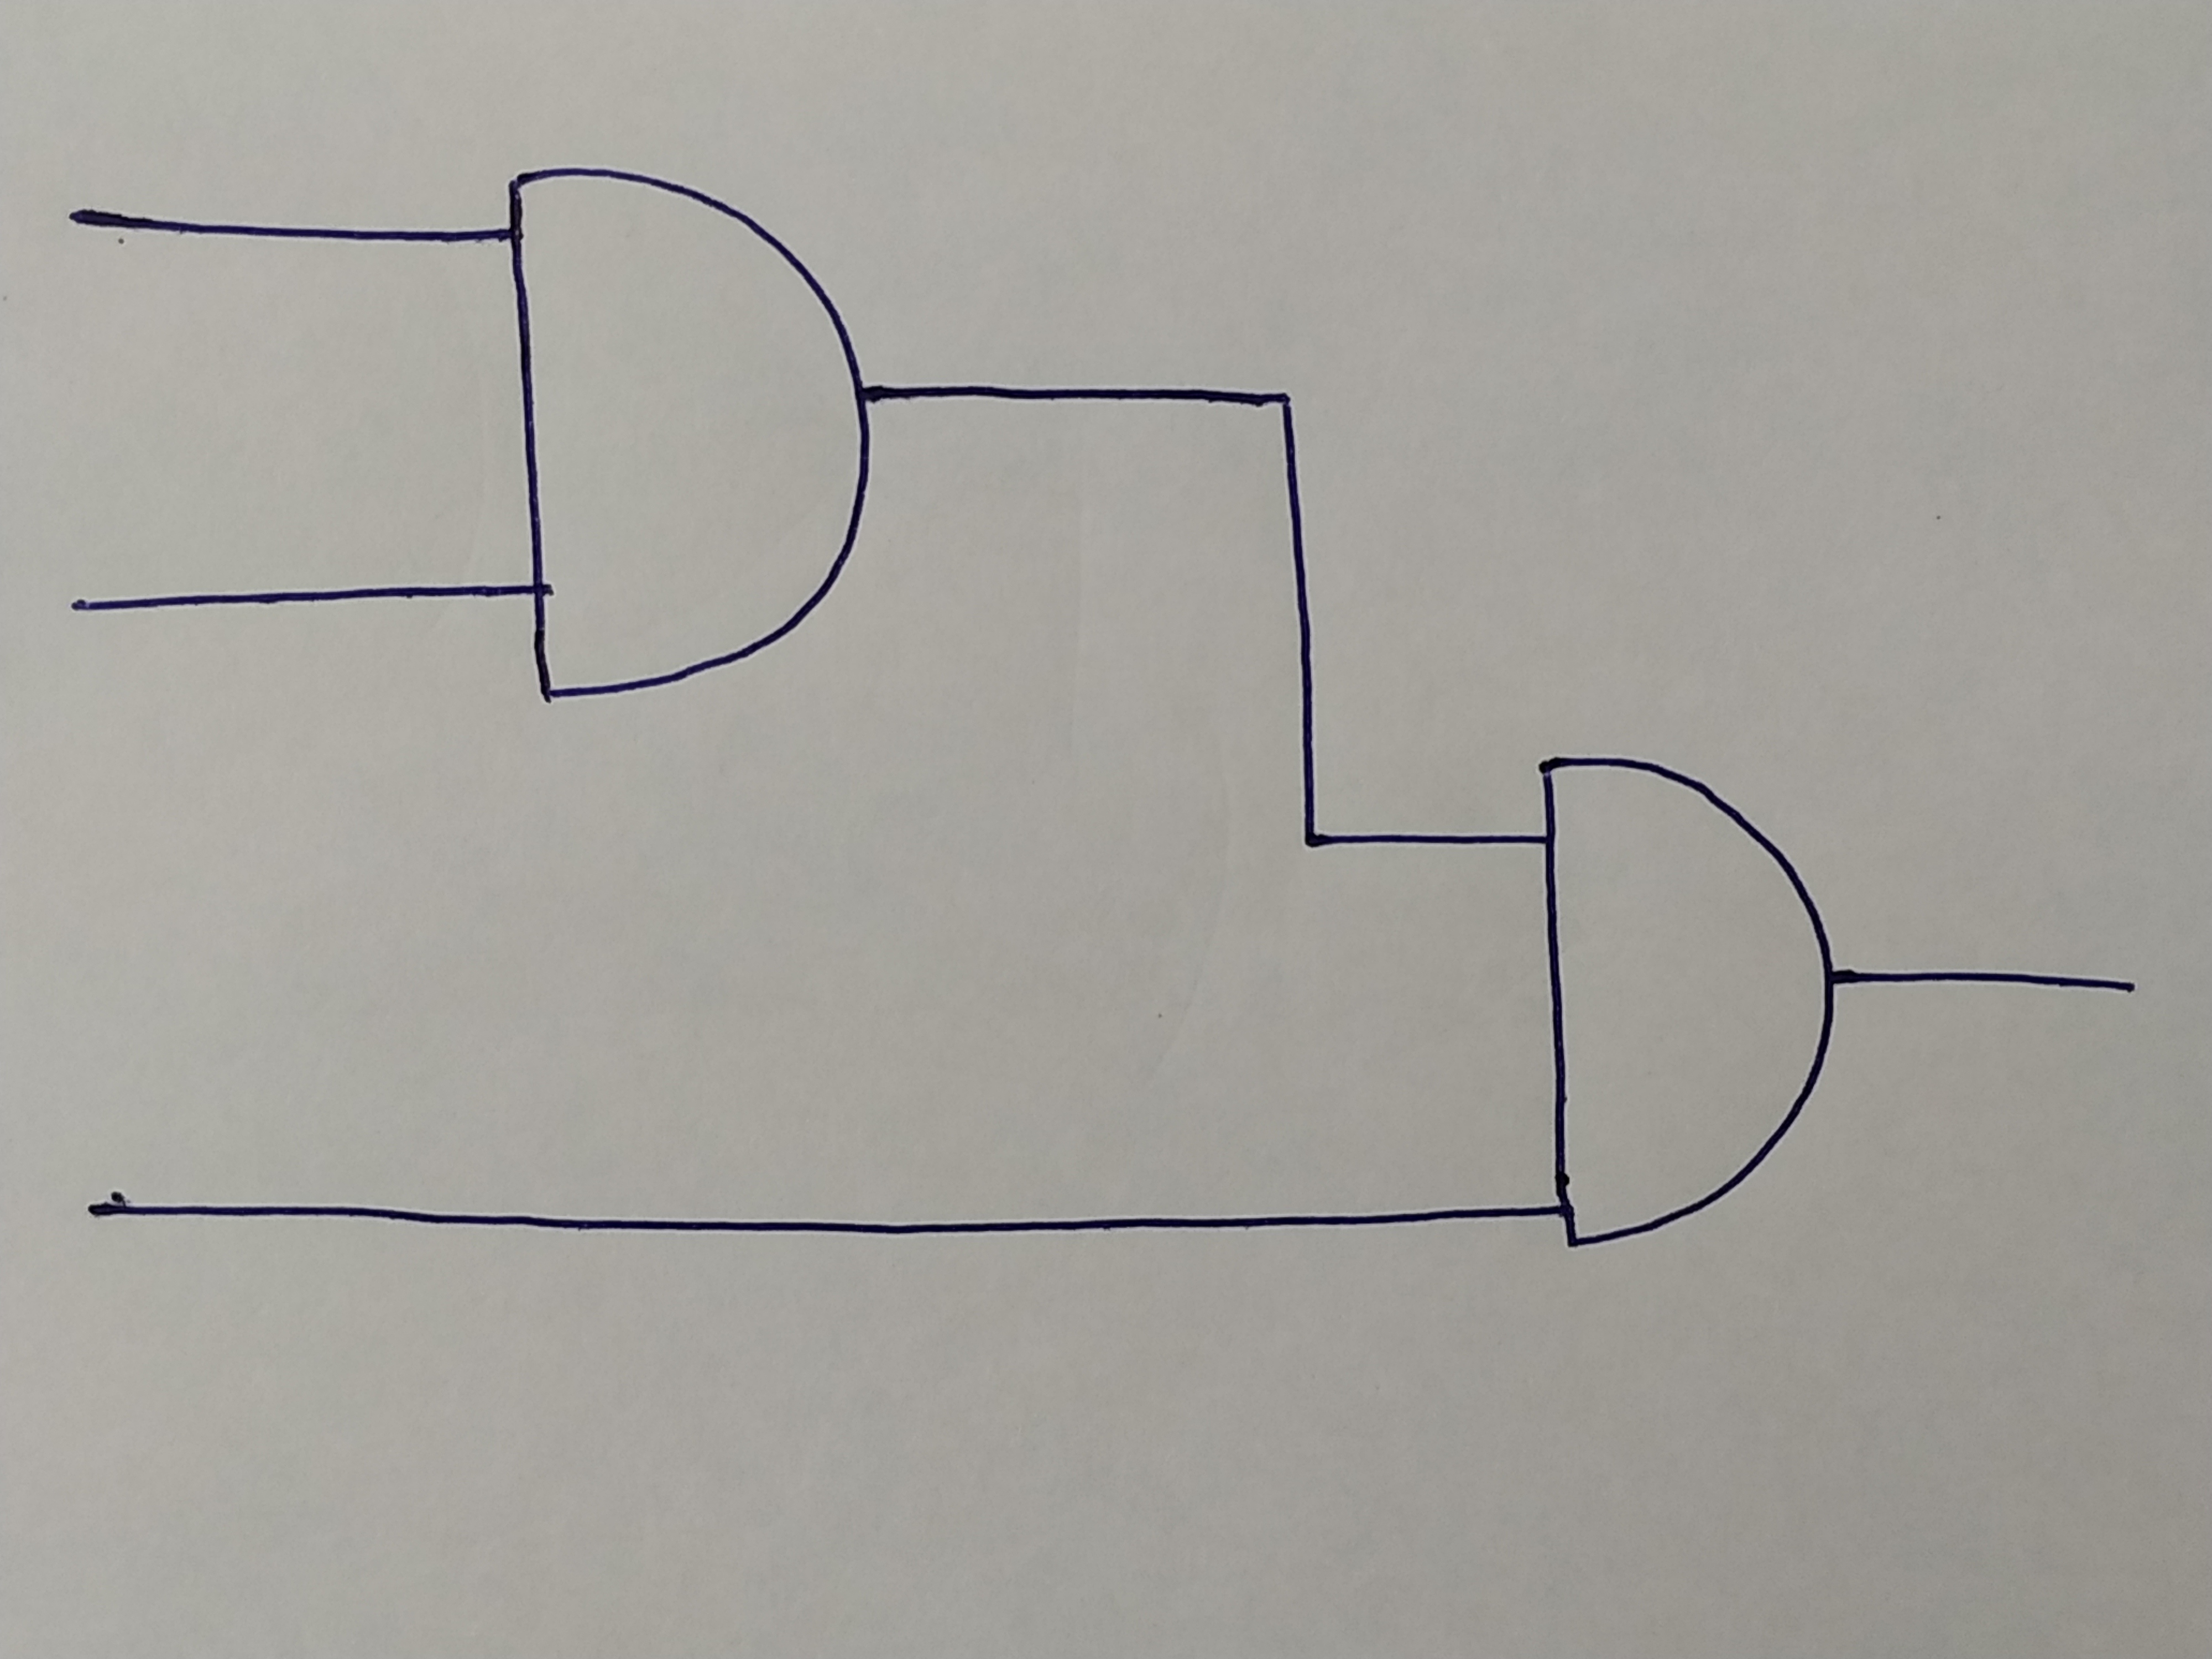and: (502, 164, 869, 701), (1536, 753, 1832, 1248)
